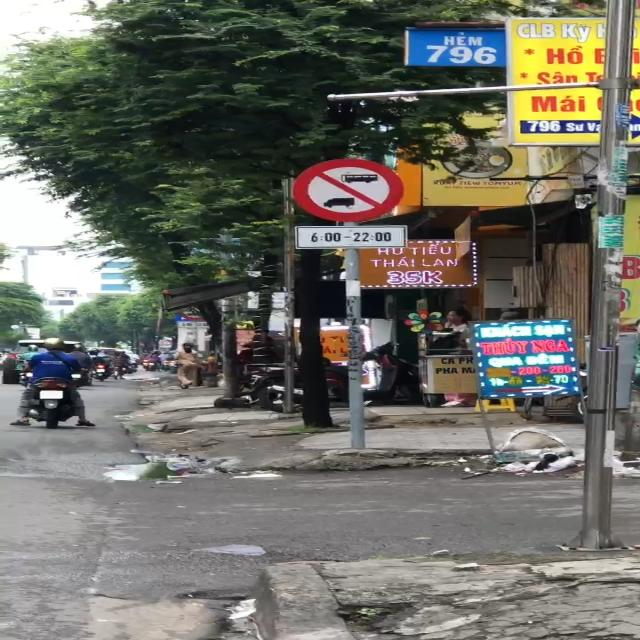Bien bao cam xe oto khach va xe oto tai: (284, 154, 404, 224)
